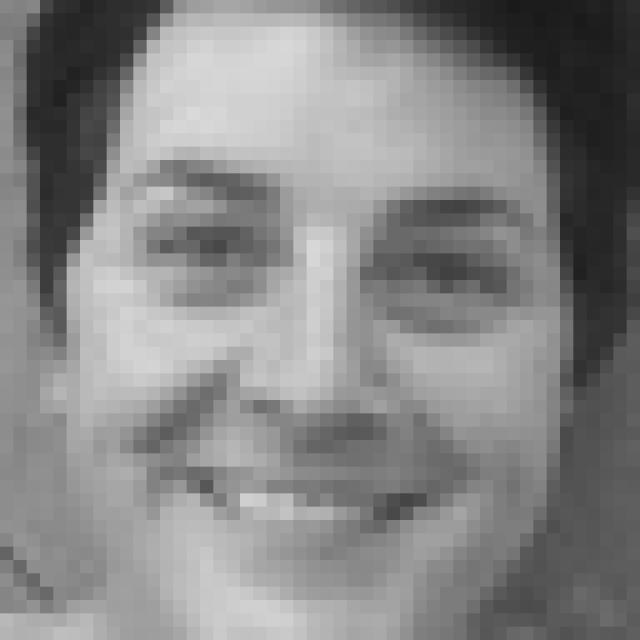happy: (118, 152, 547, 590)
